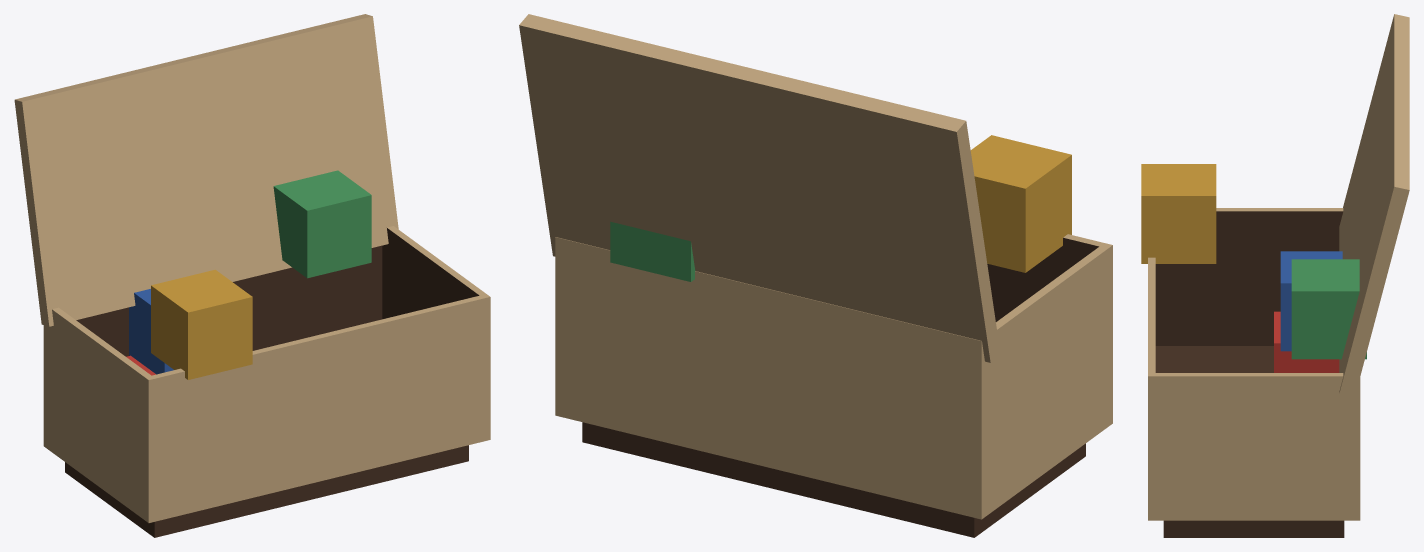
Rendered from FN_Chest_Toy.obj.
3 views of the same model, side by side, from view 1: azimuth 30°, elevation 25°; view 2: azimuth 150°, elevation 25°; view 3: azimuth 270°, elevation 25° (orthographic). The views are drawn at different scales.
Parts seen in each view (by area): view 1: FN_Chest_Toy; view 2: FN_Chest_Toy; view 3: FN_Chest_Toy.
Part boxes in pixels (box(x1,y1,x2,y2)): FN_Chest_Toy: box(14, 14, 490, 537); FN_Chest_Toy: box(519, 14, 1112, 537); FN_Chest_Toy: box(1141, 14, 1409, 537).
Size of the model in its own units: 0.924 by 0.8984 by 0.607.
Materials: 1 (1 with a texture image).
